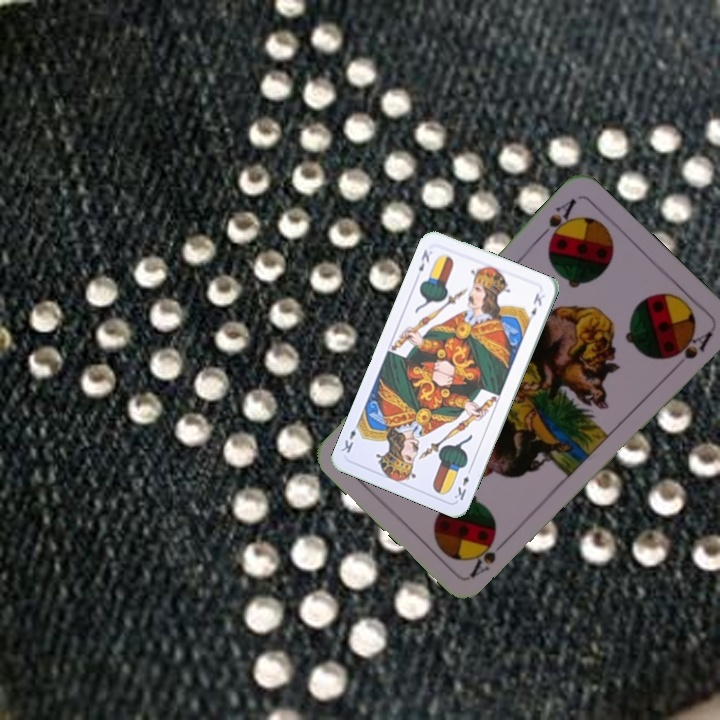EK: (450, 463, 475, 503), (414, 245, 432, 274)
SA: (534, 194, 579, 247), (466, 532, 513, 580)
